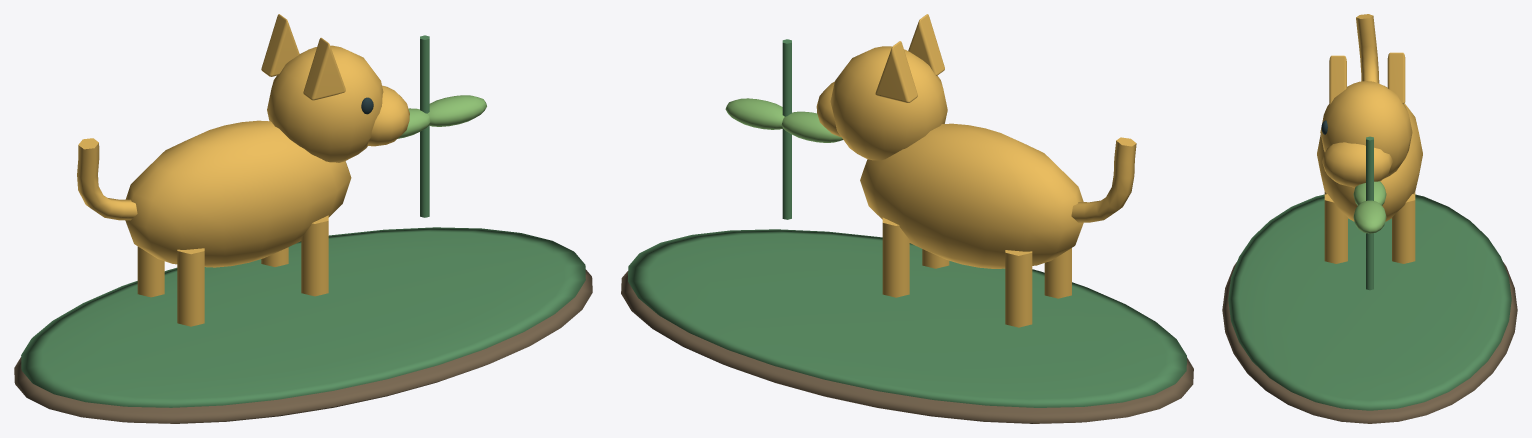
Rendered from cat-seedlings.glb.
The picture shows the model from 3 angles, left to right: view 1: azimuth 30°, elevation 25°; view 2: azimuth 150°, elevation 25°; view 3: azimuth 270°, elevation 25°; orthographic projection. The views are drawn at different scales.
Visible parts, largest first — view 1: cat-seedlings_surface_01, cat-seedlings_surface_02, cat-seedlings_surface_00, cat-seedlings_surface_04; view 2: cat-seedlings_surface_01, cat-seedlings_surface_02, cat-seedlings_surface_00, cat-seedlings_surface_04; view 3: cat-seedlings_surface_01, cat-seedlings_surface_02, cat-seedlings_surface_00, cat-seedlings_surface_04.
Part boxes in pixels (box(x1,y1,x2,y2)): cat-seedlings_surface_01: box(21, 35, 585, 407); cat-seedlings_surface_02: box(77, 14, 409, 326); cat-seedlings_surface_00: box(14, 269, 592, 423); cat-seedlings_surface_04: box(397, 95, 486, 138); cat-seedlings_surface_01: box(628, 39, 1186, 407); cat-seedlings_surface_02: box(816, 14, 1136, 327); cat-seedlings_surface_00: box(621, 271, 1193, 423); cat-seedlings_surface_04: box(725, 98, 843, 142); cat-seedlings_surface_01: box(1228, 136, 1511, 410); cat-seedlings_surface_02: box(1317, 14, 1422, 263); cat-seedlings_surface_00: box(1222, 262, 1517, 423); cat-seedlings_surface_04: box(1353, 181, 1386, 233).
Bounding box in the file's own units: 4.56 × 2.52 × 2.5.
